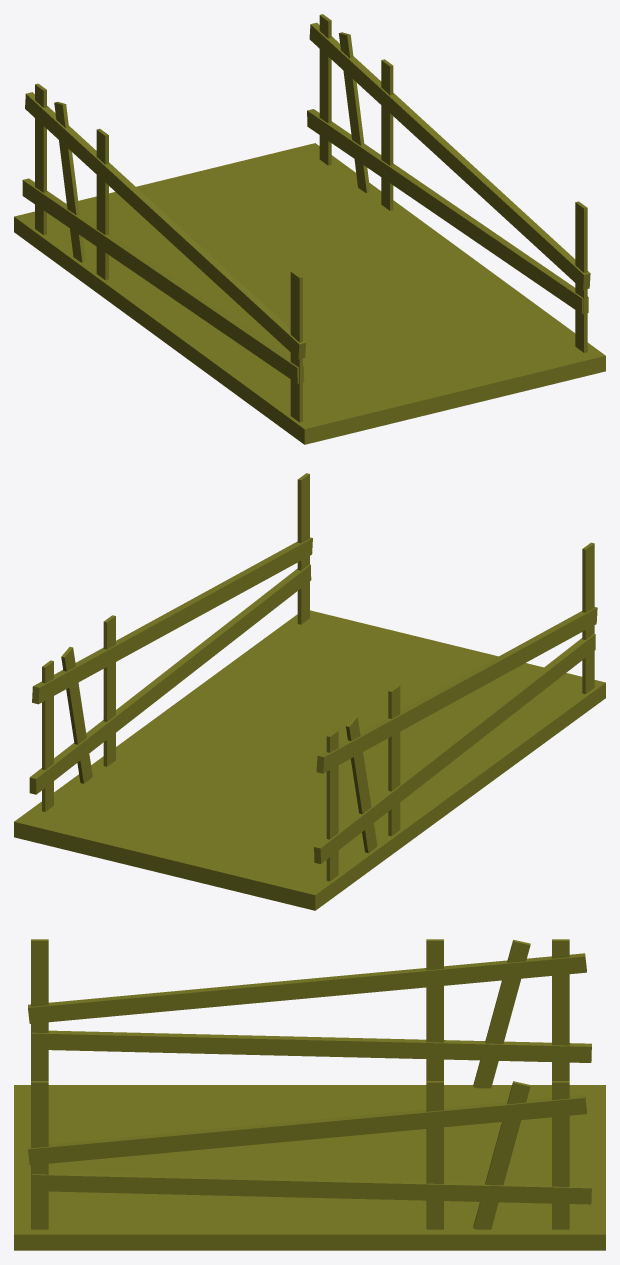
Rendered from cart.fbx.
3 renders of one model, top to bottom at view 1: azimuth 30°, elevation 25°; view 2: azimuth 150°, elevation 25°; view 3: azimuth 270°, elevation 25°, orthographic.
Visible parts, largest first — view 1: caert; view 2: caert; view 3: caert.
Boxes of the visible parts, x1,y1,x2,y2 form: caert: [14, 14, 605, 444]; caert: [14, 473, 605, 910]; caert: [14, 939, 605, 1250].
Size of the model in its own units: 3.59e-05 by 1.82e-05 by 5.99e-05.
